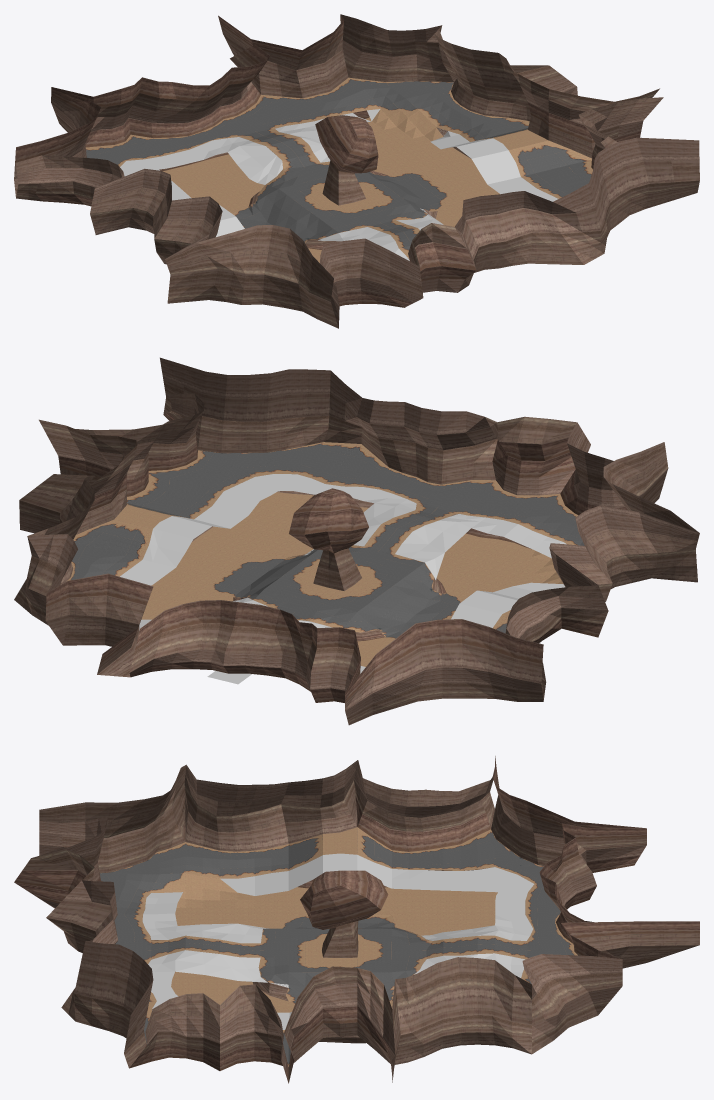
Rendered from rockyCasilla16.obj.
The picture shows the model from 3 angles, top to bottom: view 1: azimuth 30°, elevation 25°; view 2: azimuth 150°, elevation 25°; view 3: azimuth 270°, elevation 25°; orthographic projection. The views are drawn at different scales.
Parts seen in each view (by area): view 1: piece_0019, piece_0078, piece_004E, piece_0069, piece_009D, piece_003F, piece_00D1, piece_0105, piece_001D, piece_0032, piece_010E, piece_0093 (+87 smaller); view 2: piece_01E3, piece_01EA, piece_0011, piece_01E9, piece_001D, piece_018E, piece_0043, piece_018C, piece_0012, piece_0034, piece_0044, piece_0033 (+123 smaller); view 3: piece_0105, piece_0033, piece_0043, piece_0011, piece_0139, piece_0123, piece_00F1, piece_0165, piece_0124, piece_008C, piece_00C6, piece_0168 (+105 smaller).
Boxes of the visible parts, left/top/right/bottom form: piece_0019: left=637, top=137, right=699, bottom=183; piece_0078: left=360, top=238, right=423, bottom=297; piece_004E: left=418, top=223, right=476, bottom=270; piece_0069: left=246, top=225, right=289, bottom=279; piece_009D: left=197, top=225, right=257, bottom=273; piece_003F: left=552, top=183, right=600, bottom=233; piece_00D1: left=154, top=196, right=209, bottom=243; piece_0105: left=451, top=43, right=510, bottom=90; piece_001D: left=607, top=137, right=649, bottom=195; piece_0032: left=463, top=194, right=505, bottom=247; piece_010E: left=90, top=169, right=144, bottom=213; piece_0093: left=167, top=269, right=217, bottom=303; piece_01E3: left=461, top=619, right=516, bottom=678; piece_01EA: left=373, top=624, right=425, bottom=692; piece_0011: left=285, top=369, right=330, bottom=418; piece_01E9: left=415, top=619, right=462, bottom=669; piece_001D: left=202, top=371, right=249, bottom=421; piece_018E: left=225, top=602, right=279, bottom=653; piece_0043: left=517, top=416, right=576, bottom=460; piece_018C: left=154, top=600, right=202, bottom=658; piece_0012: left=246, top=369, right=288, bottom=421; piece_0034: left=441, top=439, right=497, bottom=484; piece_0044: left=517, top=452, right=575, bottom=495; piece_0033: left=437, top=411, right=496, bottom=450; piece_0105: left=416, top=957, right=463, bottom=1027; piece_0033: left=46, top=880, right=114, bottom=931; piece_0043: left=14, top=849, right=86, bottom=892; piece_0011: left=74, top=941, right=118, bottom=1001; piece_0139: left=458, top=957, right=494, bottom=1015; piece_0123: left=492, top=960, right=531, bottom=1024; piece_00F1: left=310, top=885, right=380, bottom=926; piece_0165: left=630, top=921, right=699, bottom=946; piece_0124: left=542, top=954, right=593, bottom=1003; piece_008C: left=220, top=984, right=255, bottom=1043; piece_00C6: left=313, top=966, right=357, bottom=1008; piece_0168: left=561, top=921, right=630, bottom=950.
Size of the model in its own units: 61.86 by 9.98 by 62.7.
